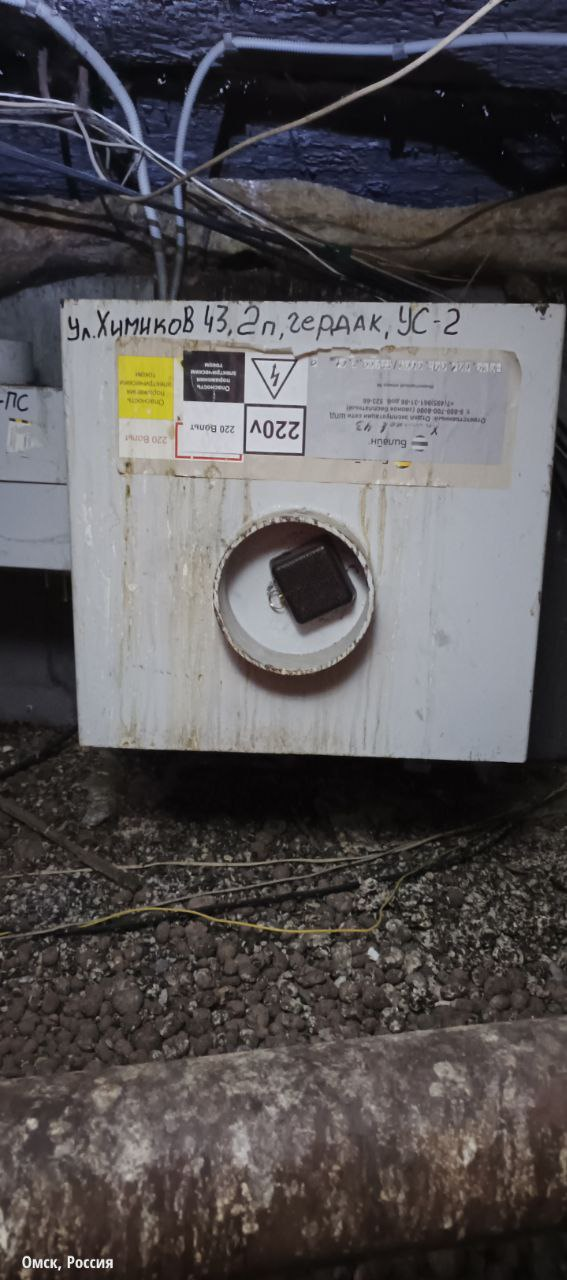shta-9: (56, 293, 566, 769)
